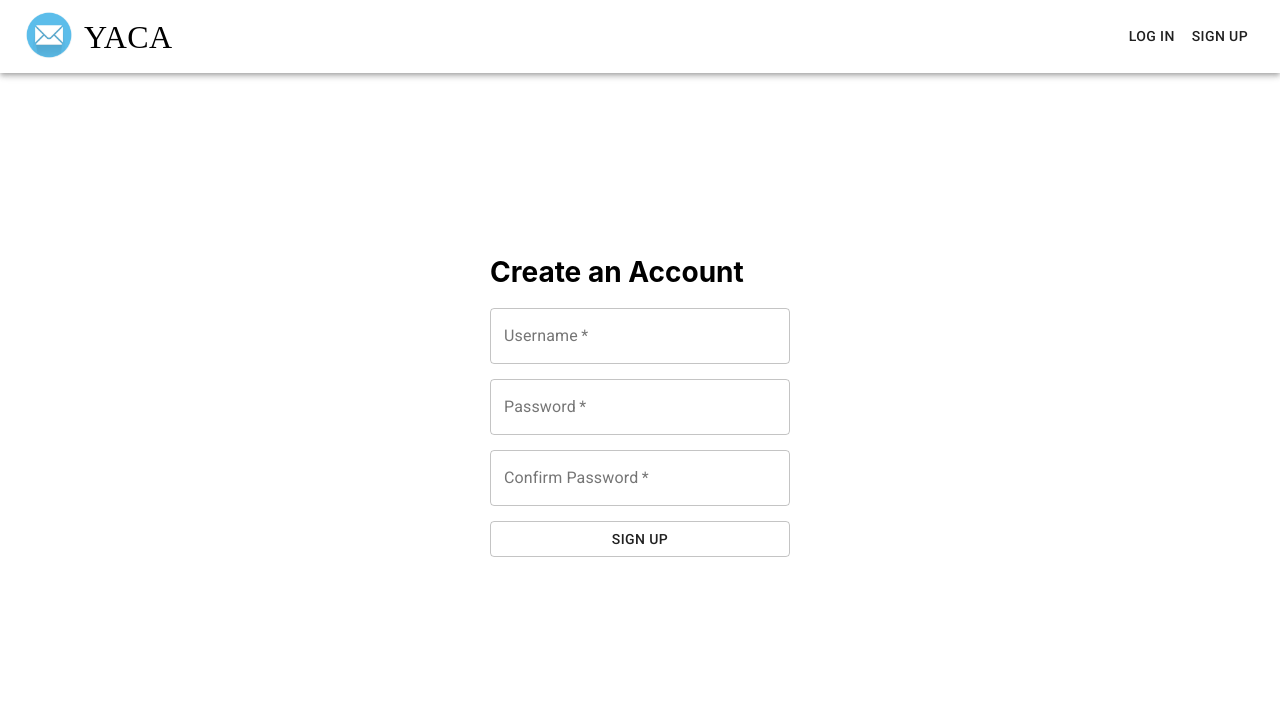
Test: should attempt to create user and return error message "This username has already been taken."
This screenshot has width=1280, height=720.
# fill out form
Step 1. Type "test_user" into the field with test id "create-page-username-input" → (640, 336), box [490,308,790,364]
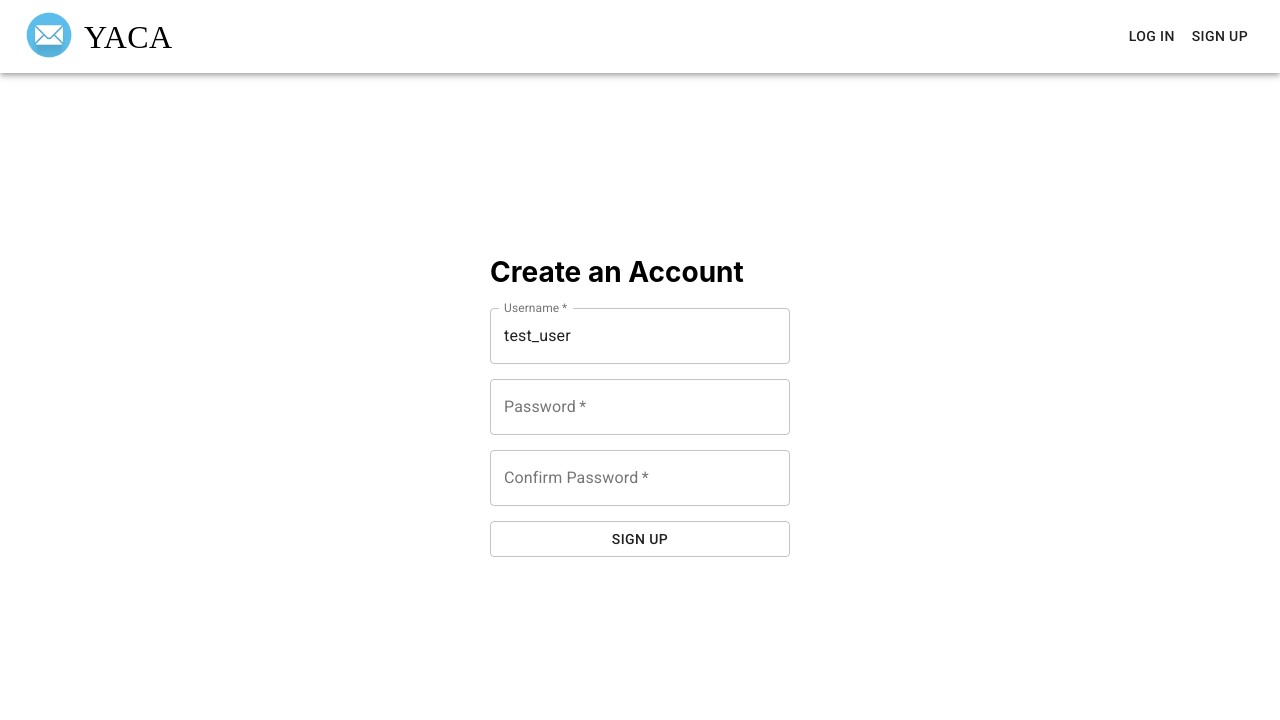
Step 2. Type "1234abcd" into the password field with test id "create-page-password-input" → (640, 406), box [490,378,790,434]
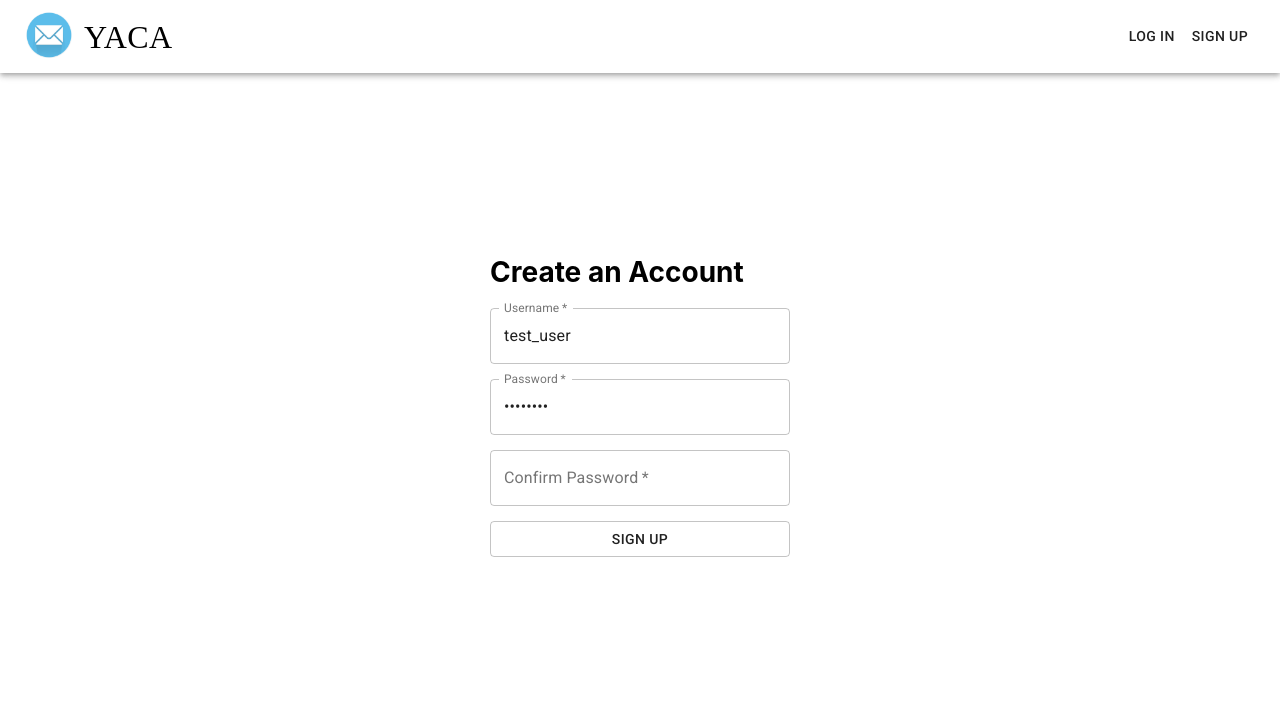
Step 3. Type "1234abcd" into the password field with test id "create-page-confirm-input" → (640, 478), box [490,450,790,506]
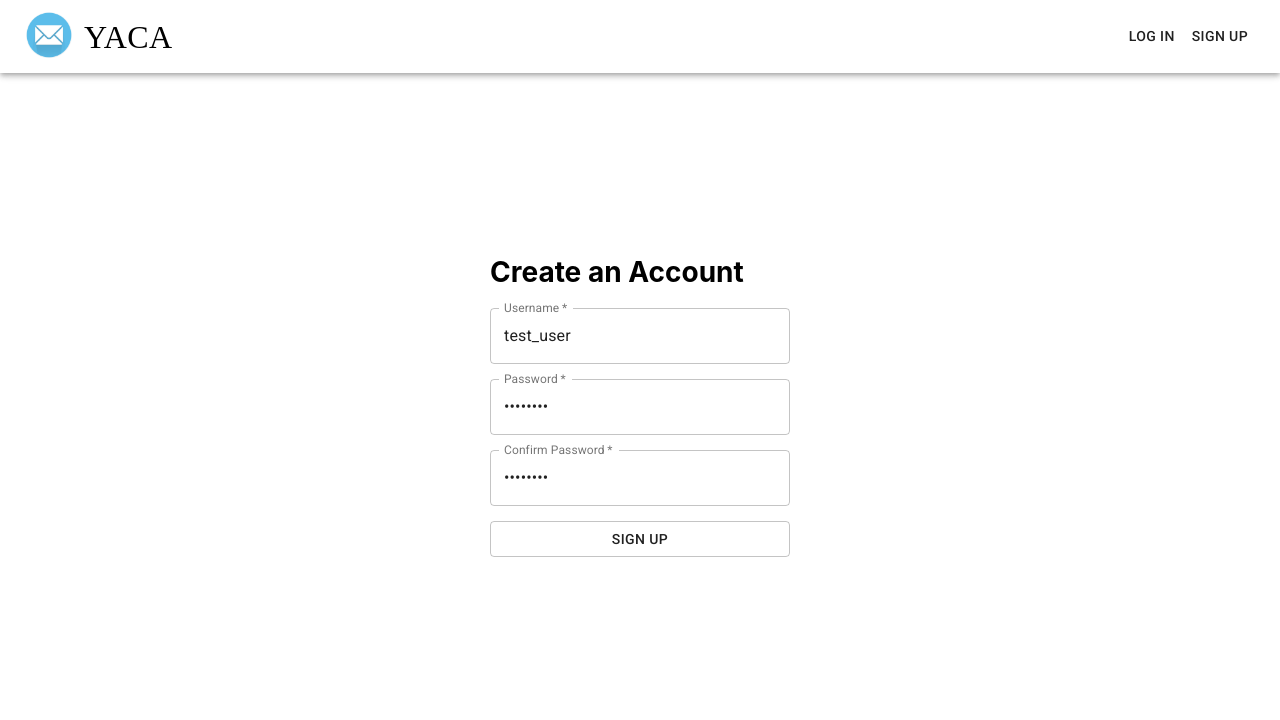
Step 4. Click the button with test id "create-page-submit" → (640, 539), box [490,520,790,557]
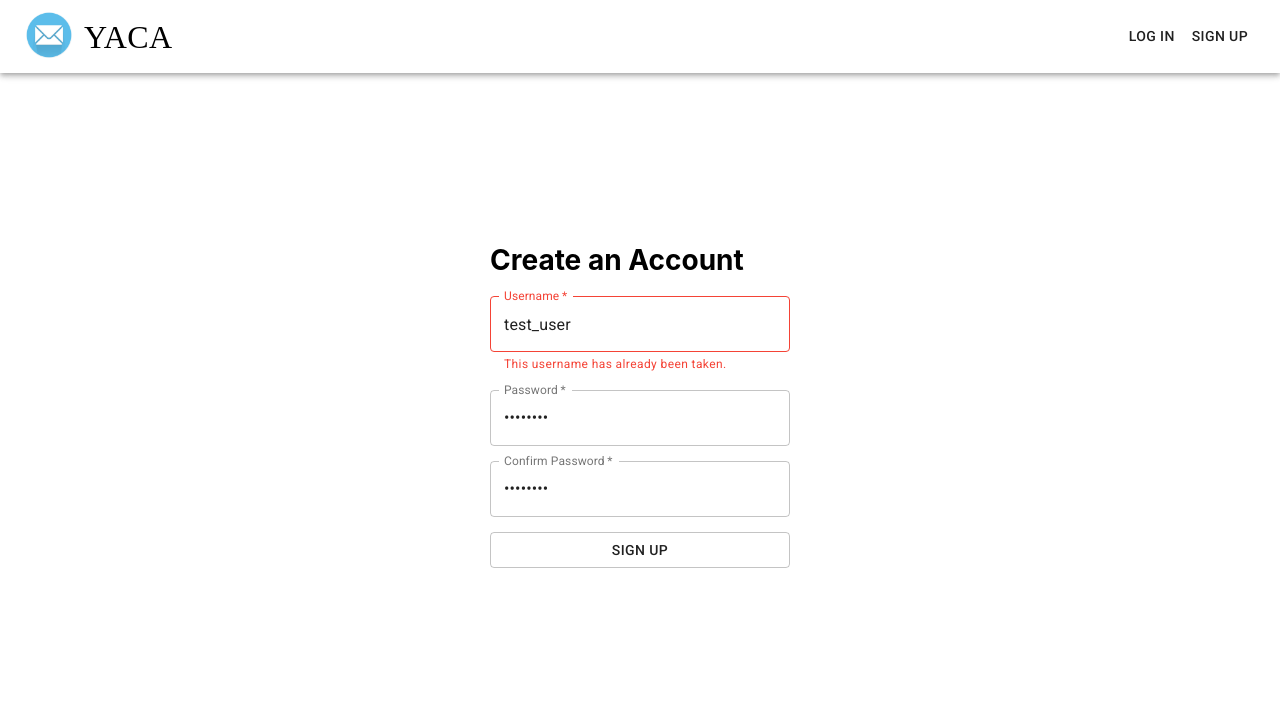
Check: the text with test id "create-page-username-helper" reads "This username has already been taken.", box [504,357,727,371]
